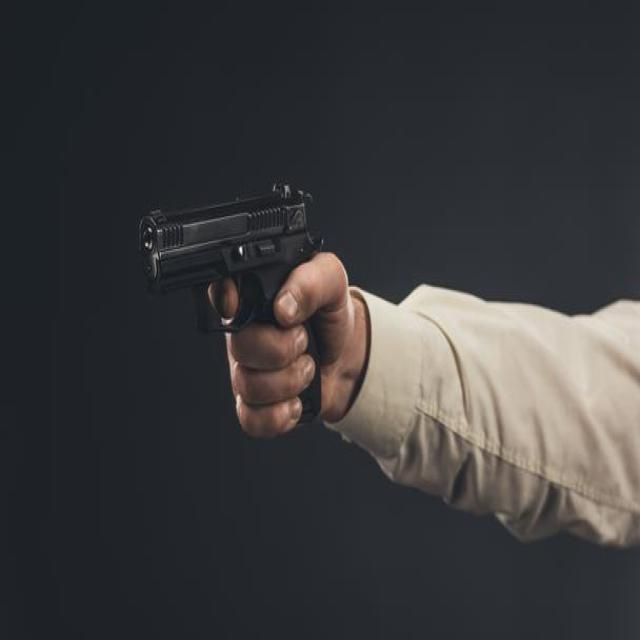HandGun: (138, 178, 334, 433)
